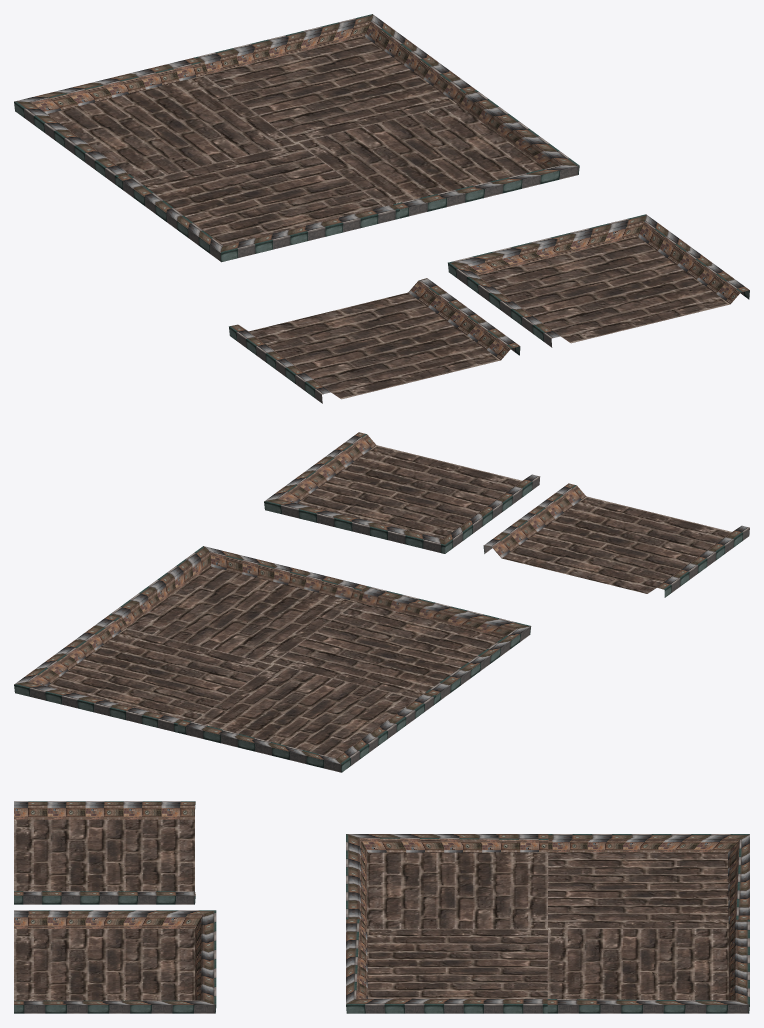
The model's file is box_grass.fbx.
3 views of the same model, one above another, from view 1: azimuth 30°, elevation 25°; view 2: azimuth 150°, elevation 25°; view 3: azimuth 270°, elevation 25° (orthographic). The views are drawn at different scales.
Parts seen in each view (by area): view 1: Plane.001, Plane.002, Plane.003; view 2: Plane.001, Plane.002, Plane.003; view 3: Plane.001, Plane.002, Plane.003.
Part boxes in pixels (<box>): Plane.001: <box>14,14,579,262</box>; Plane.002: <box>448,214,749,347</box>; Plane.003: <box>229,278,520,403</box>; Plane.001: <box>14,546,531,772</box>; Plane.002: <box>264,432,540,553</box>; Plane.003: <box>483,483,749,597</box>; Plane.001: <box>346,834,749,1013</box>; Plane.002: <box>14,910,216,1013</box>; Plane.003: <box>14,801,195,904</box>.
Bounding box in the file's own units: 538 × 821 × 11.41.
